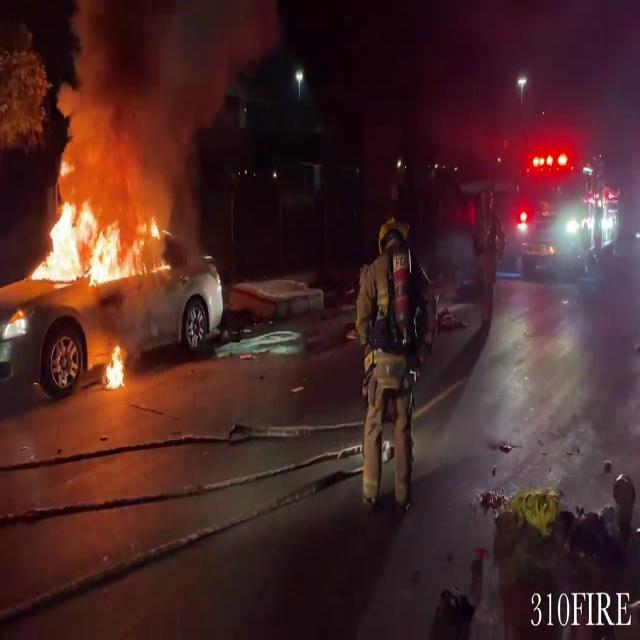Fire: (23, 185, 164, 295), (101, 341, 129, 391)
Smoke: (58, 0, 272, 208)
